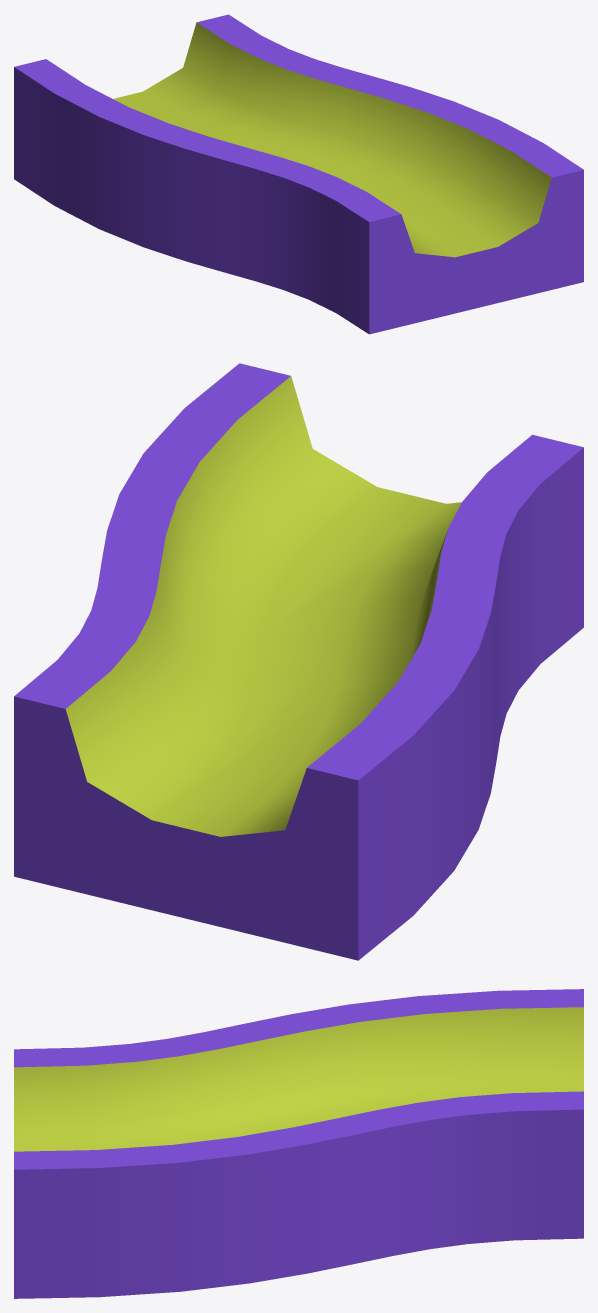
Rendered from s-curve_short_left_B-col.dae.
3 renders of one model, top to bottom at view 1: azimuth 30°, elevation 25°; view 2: azimuth 150°, elevation 25°; view 3: azimuth 270°, elevation 25°, orthographic. The views are drawn at different scales.
Visible parts, largest first — view 1: s-curve_short_left_B-col; view 2: s-curve_short_left_B-col; view 3: s-curve_short_left_B-col.
Part boxes in pixels (<box>): s-curve_short_left_B-col: <box>14,14,583,334</box>; s-curve_short_left_B-col: <box>14,363,583,960</box>; s-curve_short_left_B-col: <box>14,989,583,1298</box>.
Size of the model in its own units: 1.5 by 2 by 0.5.
